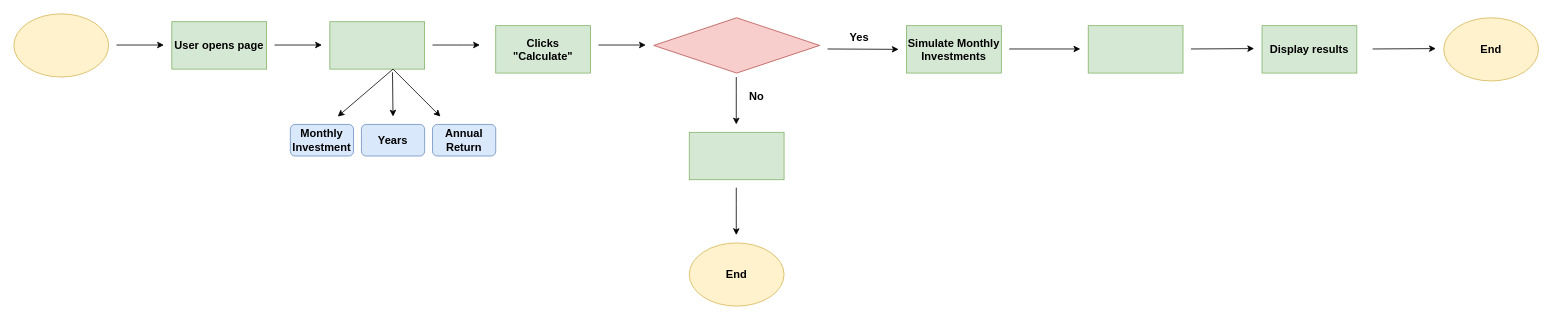
Image size: 1552x320. Some labels were removed from this diagram. Each missing label, with the box of its shape:
Alert Error: (688, 132, 784, 180)
Calculate future value, profit: (1087, 25, 1183, 73)
Start: (13, 13, 109, 77)
User enters:: (329, 21, 425, 69)
Valid Inputs: (653, 17, 820, 73)
